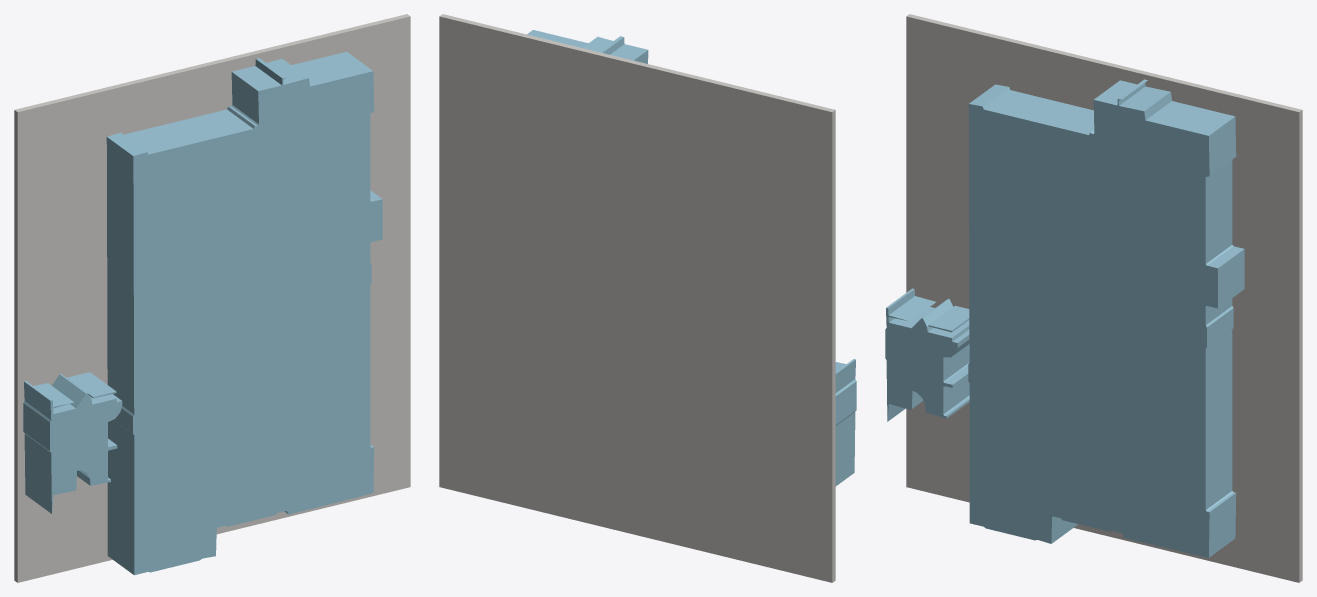
3 views of the same model, side by side, from view 1: azimuth 30°, elevation 25°; view 2: azimuth 150°, elevation 25°; view 3: azimuth 330°, elevation 25° (orthographic).
Parts seen in each view (by area): view 1: world; view 2: world; view 3: world.
Part boxes in pixels (x1,y1,x2,y2): world: [14, 14, 410, 582]; world: [439, 14, 856, 582]; world: [885, 14, 1302, 582].
Bounding box in the file's own units: 10.23 × 11.71 × 1.35.
